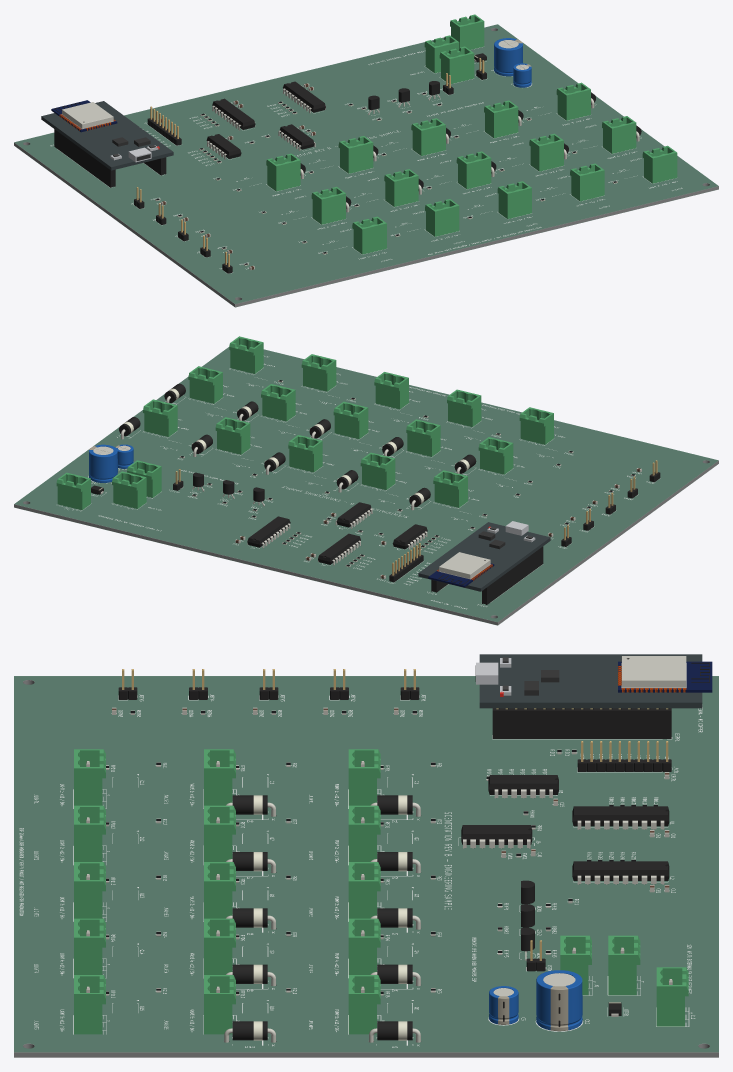
The model's file is scentstation-web.glb.
The picture shows the model from 3 angles, top to bottom: view 1: azimuth 30°, elevation 25°; view 2: azimuth 150°, elevation 25°; view 3: azimuth 270°, elevation 25°; orthographic projection. The views are drawn at different scales.
Visible parts, largest first — view 1: =>[0:1:1:19], =>[0:1:1:21], ESP_CARRIER_ILLUSTRATION_1, =>[0:1:1:18], WROOM_PREVIEW_ONLY, JESPL1, JLIGHT5, JLIGHT4, JPUMP2, JPUMP4, JLIGHT1, JVALVE3 (+18 smaller); view 2: =>[0:1:1:19], =>[0:1:1:21], ESP_CARRIER_ILLUSTRATION_1, =>[0:1:1:18], WROOM_PREVIEW_ONLY, JVALVE3, JESPL1, JPUMP4, JPUMP2, JLIGHT2, JVALVE1, JLIGHT4 (+18 smaller); view 3: =>[0:1:1:19], =>[0:1:1:21], ESP_CARRIER_ILLUSTRATION_1, =>[0:1:1:18], JESPR1, WROOM_PREVIEW_ONLY, C12, U1, U2, JBUCKIN1, J12, JLIGHT5 (+29 smaller).
Part boxes in pixels (<box>): =>[0:1:1:19]: <box>14,24,718,303</box>; =>[0:1:1:21]: <box>14,25,718,307</box>; ESP_CARRIER_ILLUSTRATION_1: <box>41,101,173,170</box>; =>[0:1:1:18]: <box>50,47,682,273</box>; WROOM_PREVIEW_ONLY: <box>51,100,117,132</box>; JESPL1: <box>54,129,115,187</box>; JLIGHT5: <box>642,145,677,183</box>; JLIGHT4: <box>570,163,604,201</box>; JPUMP2: <box>338,136,373,173</box>; JPUMP4: <box>484,100,518,138</box>; JLIGHT1: <box>352,216,386,254</box>; JVALVE3: <box>456,151,491,189</box>; =>[0:1:1:19]: <box>14,347,718,622</box>; =>[0:1:1:21]: <box>14,348,718,625</box>; ESP_CARRIER_ILLUSTRATION_1: <box>418,522,550,591</box>; =>[0:1:1:18]: <box>59,356,660,609</box>; WROOM_PREVIEW_ONLY: <box>428,552,494,587</box>; JVALVE3: <box>333,401,368,439</box>; JESPL1: <box>482,546,543,604</box>; JPUMP4: <box>215,417,250,454</box>; JPUMP2: <box>360,452,395,490</box>; JLIGHT2: <box>447,389,481,426</box>; JVALVE1: <box>478,437,513,474</box>; JLIGHT4: <box>301,354,336,391</box>; =>[0:1:1:19]: <box>14,676,718,1052</box>; =>[0:1:1:21]: <box>14,677,718,1057</box>; ESP_CARRIER_ILLUSTRATION_1: <box>479,654,702,708</box>; =>[0:1:1:18]: <box>19,694,702,1047</box>; JESPR1: <box>492,708,671,738</box>; WROOM_PREVIEW_ONLY: <box>618,656,712,692</box>; C12: <box>536,970,582,1031</box>; U1: <box>572,806,669,829</box>; U2: <box>572,861,669,884</box>; JBUCKIN1: <box>608,935,640,995</box>; J12: <box>656,967,688,1026</box>; JLIGHT5: <box>74,975,105,1034</box>.
Size of the model in its own units: 0.24 by 0.0187 by 0.19.
